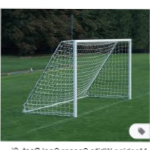goals: (24, 37, 134, 120)
